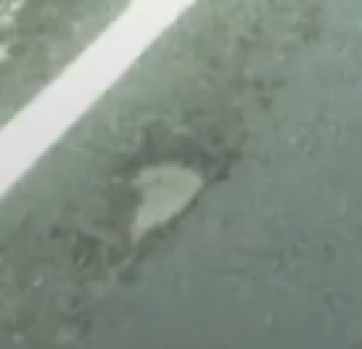Berlubang: (64, 105, 257, 270)
